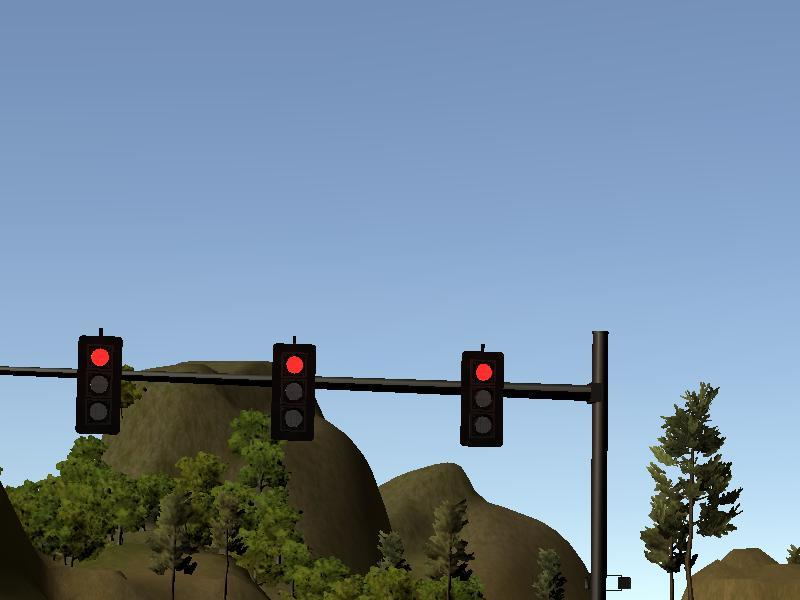Red: (79, 337, 121, 431), (462, 353, 503, 447), (276, 345, 315, 441)
